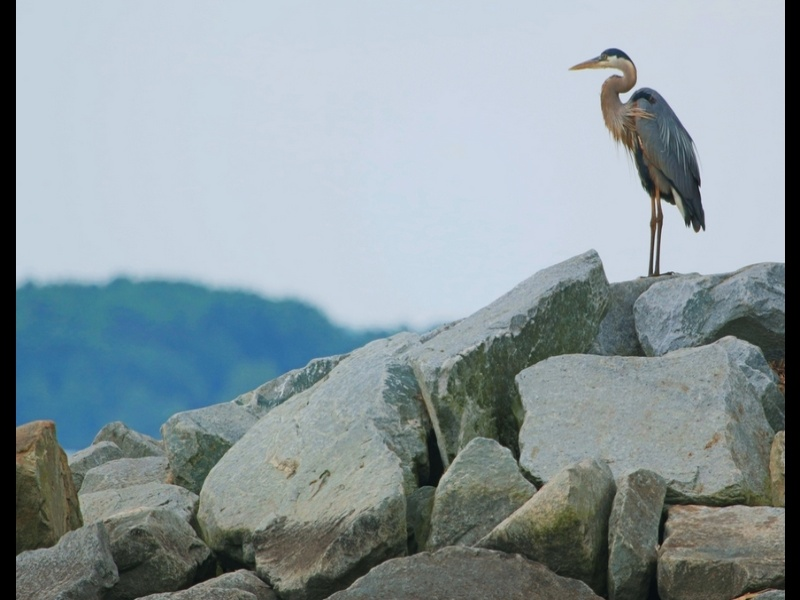heron: (567, 44, 707, 268)
